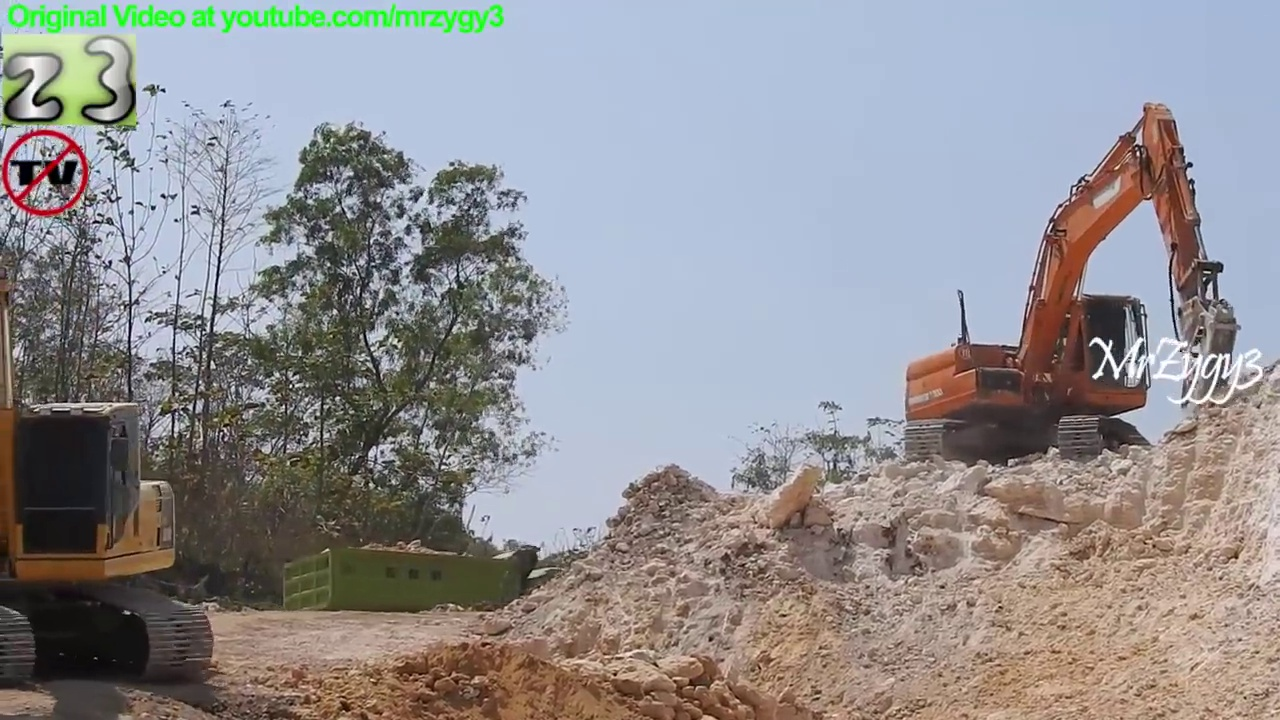excavator: (896, 95, 1248, 475), (1, 242, 223, 696)
truck: (277, 536, 613, 644)
